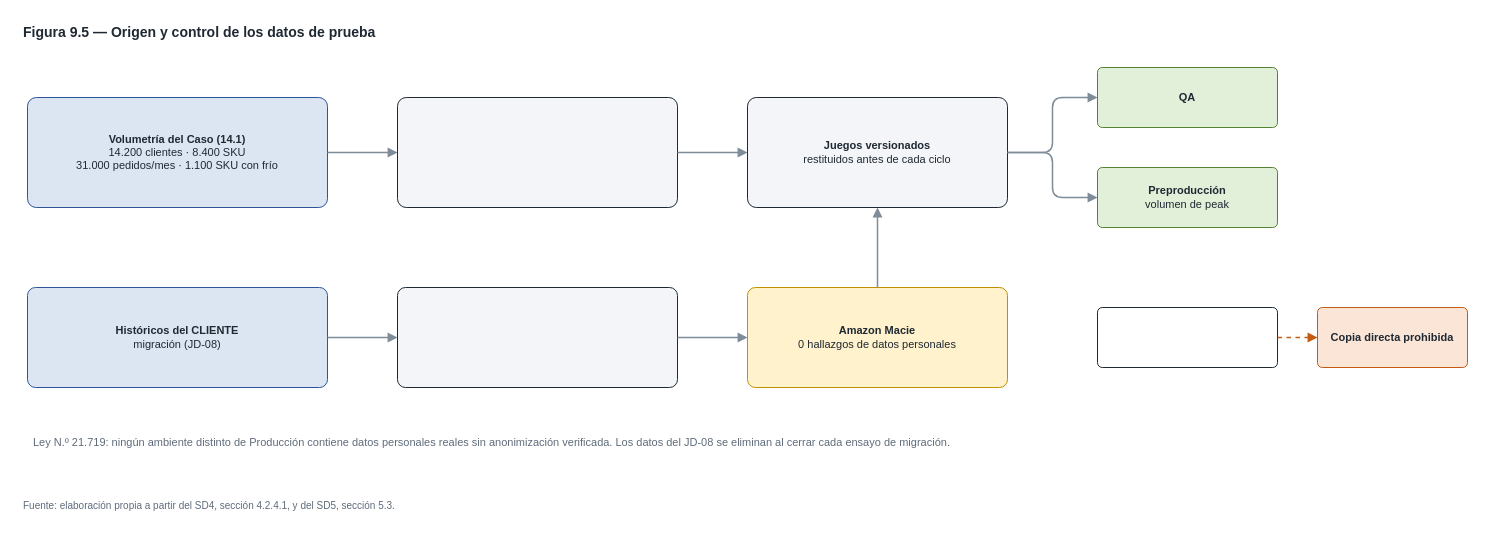
Image size: 1494x534. Some labels were removed from this diagram. Each missing label, with the box of its shape:
Anonimización y seudonimización reglas de la Tabla 9.D.2: (396, 286, 678, 388)
Generador sintético reglas del SD3 y del SD5 JD-01 a JD-07, JD-09: (396, 96, 678, 208)
Producción: (1096, 306, 1278, 368)
